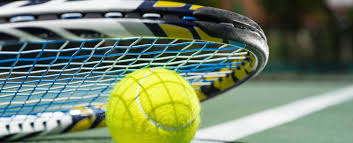tennis_ball: (105, 66, 201, 143)
